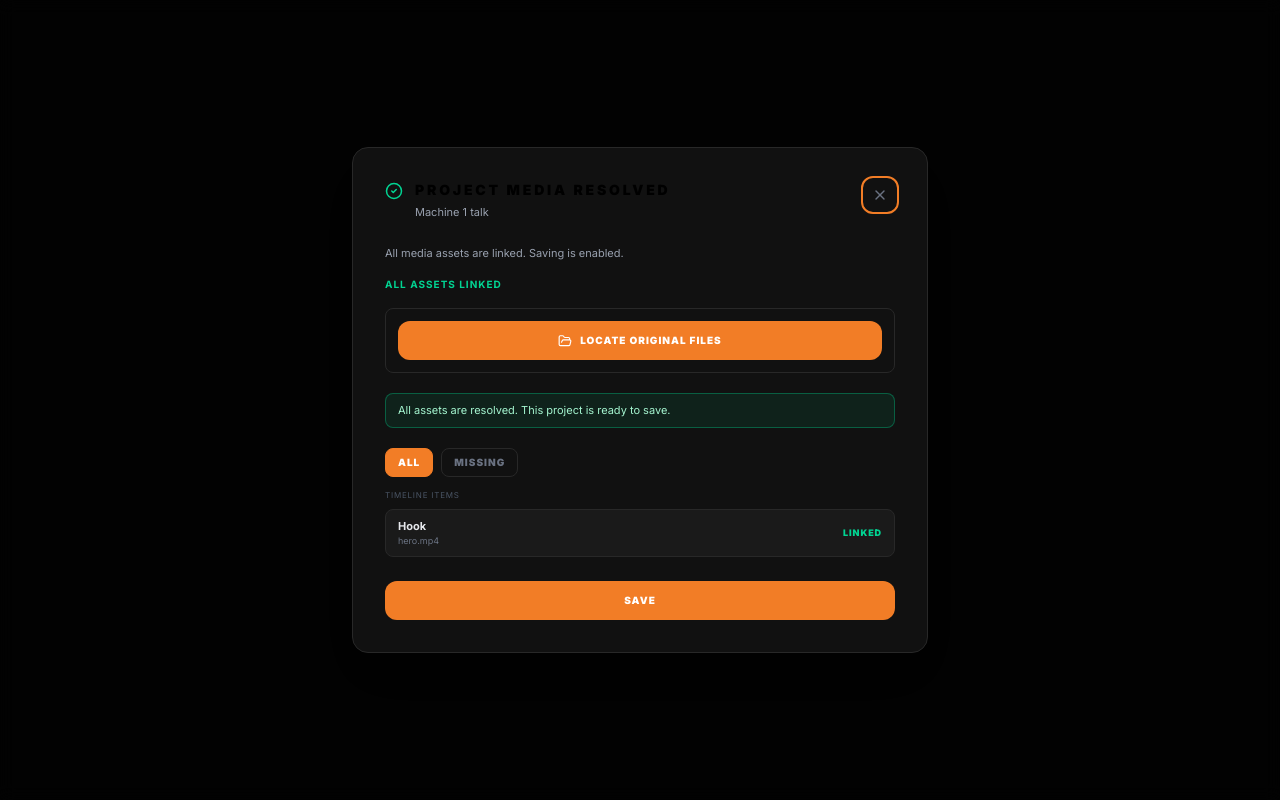
Test case: DegradedProjectRecoveryScreen — ALL | MISSING tabs › MISSING at zero shows "Nothing is missing."
This screenshot has width=1280, height=800.
Click the tab "Missing": (480, 462) [441, 448, 518, 477]
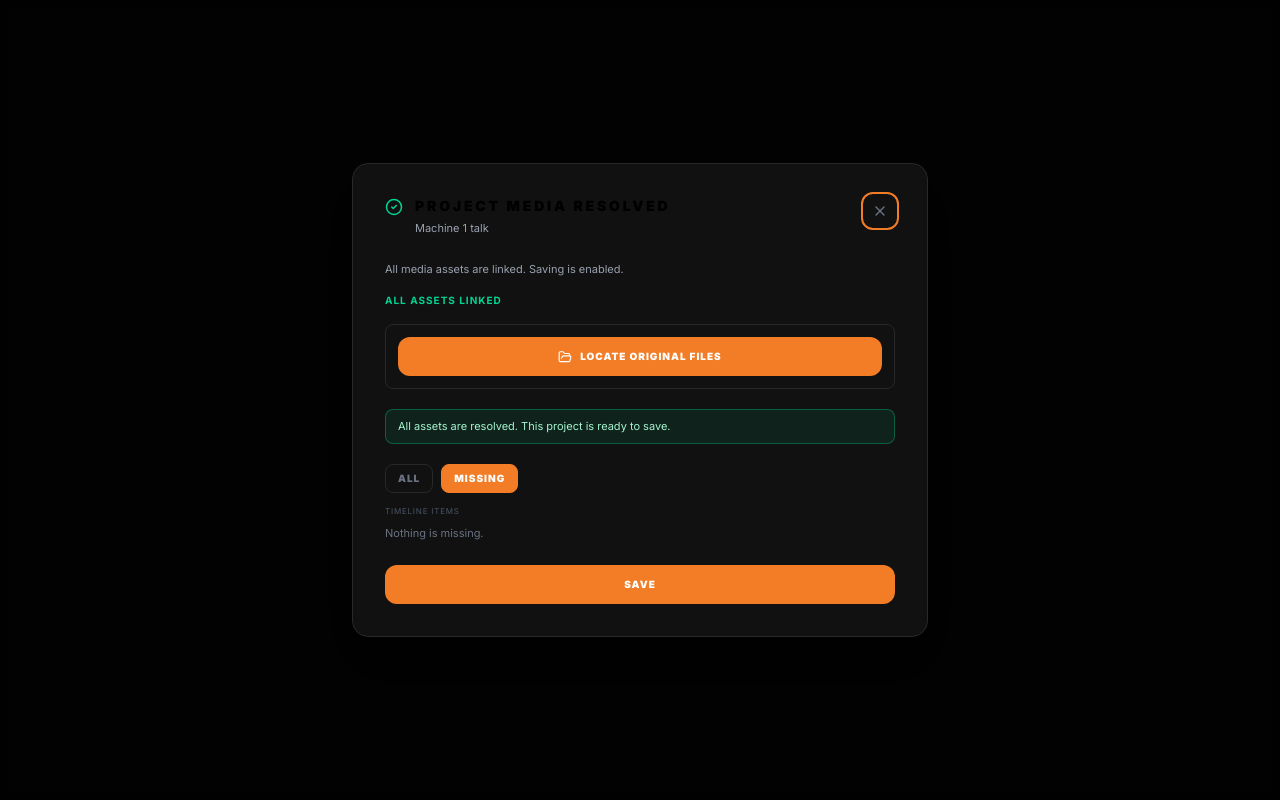
Result: the text with test id "recovery-missing-empty" reads "Nothing is missing." at [385, 526, 484, 540]
